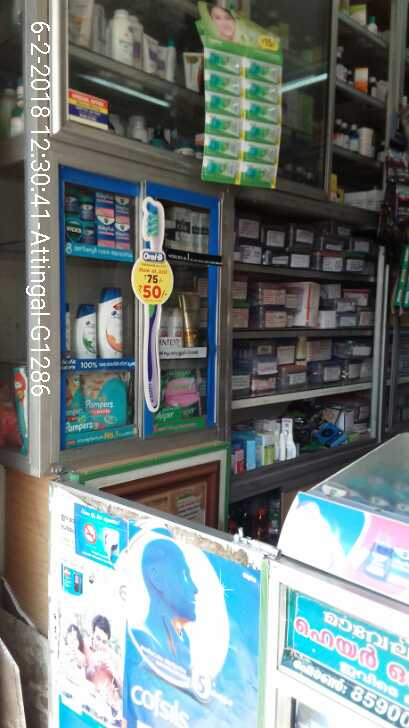vicks: (64, 193, 137, 247)
